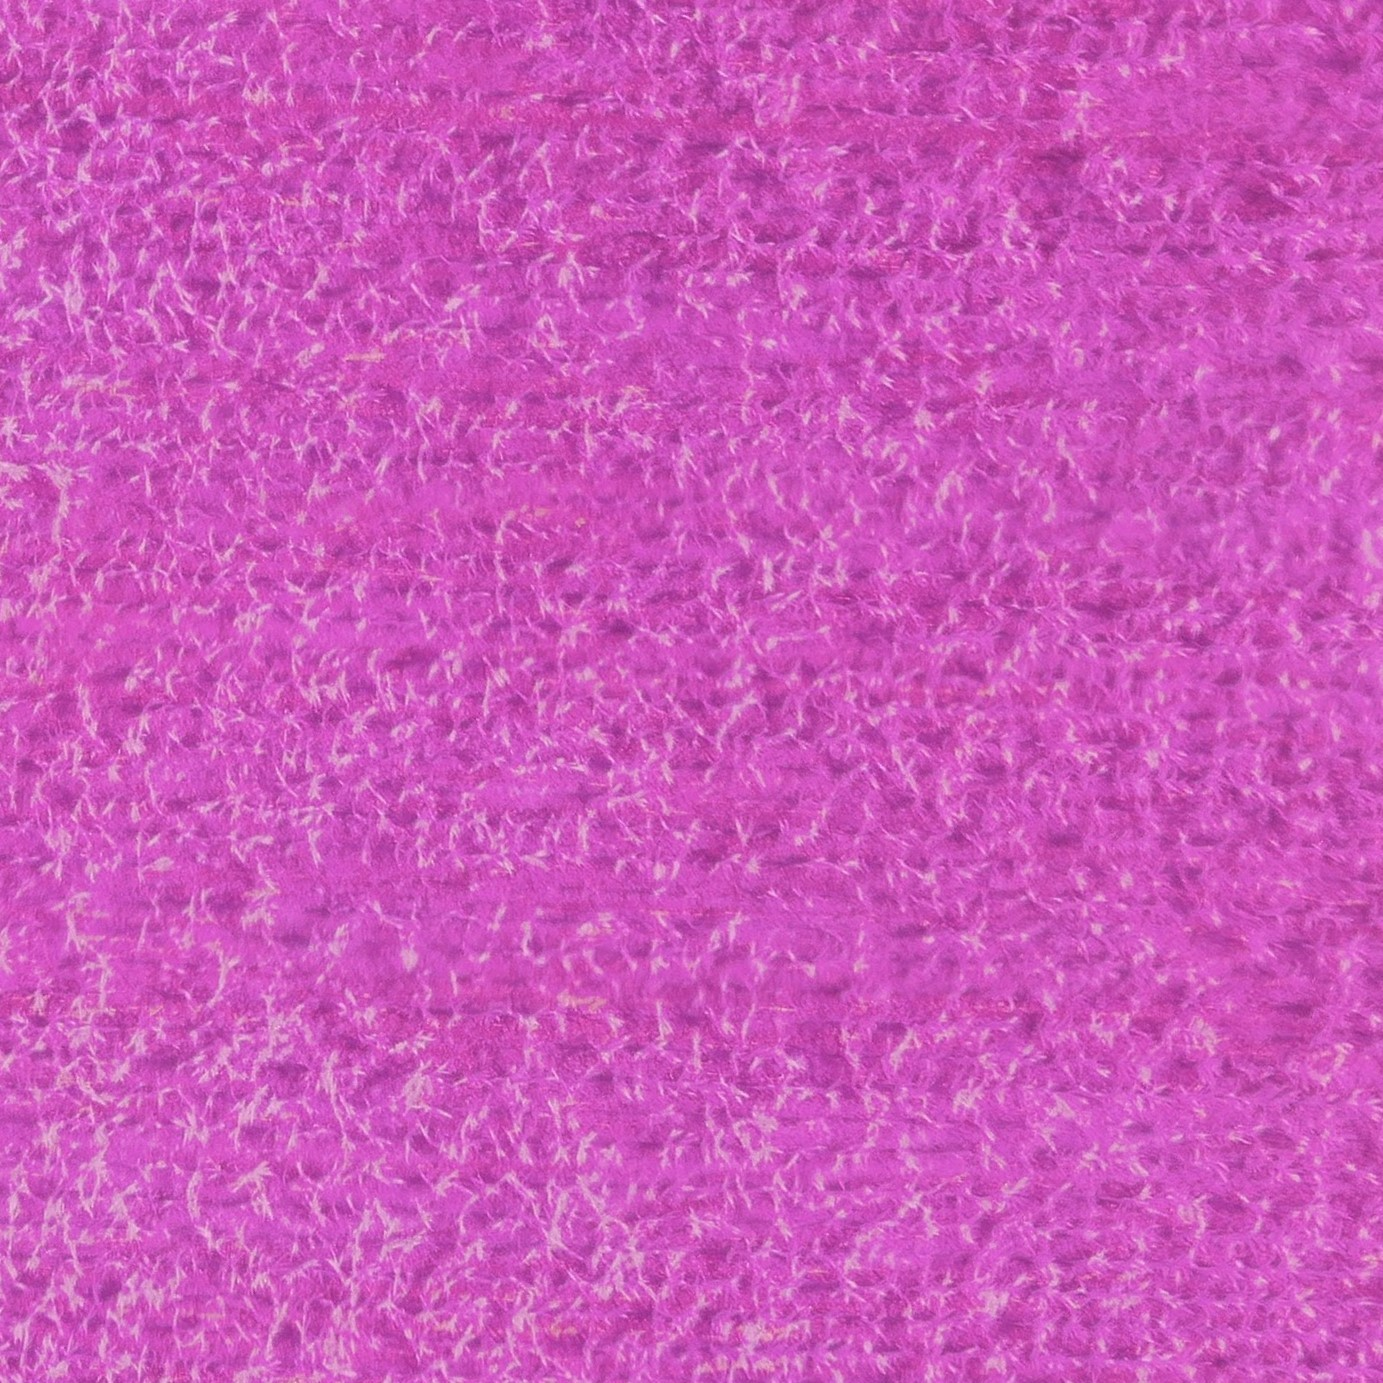plant: (850, 438, 917, 474), (887, 748, 922, 792), (73, 683, 101, 737), (39, 460, 92, 486), (957, 705, 985, 756), (267, 1006, 301, 1046), (490, 401, 518, 450), (937, 469, 966, 514), (727, 138, 769, 168), (432, 325, 475, 355), (612, 385, 651, 417), (724, 433, 751, 479), (1001, 204, 1030, 244), (667, 447, 697, 488), (1183, 1018, 1216, 1054), (1012, 465, 1047, 498), (91, 960, 113, 1013), (315, 1051, 344, 1090), (32, 553, 65, 588), (428, 652, 462, 685), (1177, 1197, 1209, 1231), (502, 1071, 528, 1112), (610, 1245, 643, 1277), (58, 1277, 87, 1312), (114, 377, 142, 414), (816, 564, 852, 591), (774, 1047, 811, 1075), (66, 908, 89, 952), (1090, 1011, 1118, 1046), (60, 1027, 105, 1049), (103, 33, 129, 70), (325, 13, 362, 39), (186, 1171, 206, 1220), (781, 276, 805, 317), (243, 73, 275, 104), (294, 339, 327, 369), (1045, 1096, 1078, 1125), (862, 1088, 895, 1117), (35, 80, 77, 103), (976, 1291, 1011, 1318), (895, 1190, 930, 1218), (1111, 1266, 1150, 1291), (409, 394, 445, 420), (919, 312, 955, 338), (591, 1213, 628, 1239), (546, 1183, 571, 1220), (560, 618, 590, 648), (44, 824, 73, 856), (79, 1158, 111, 1185), (835, 393, 862, 426), (111, 103, 136, 141), (84, 854, 122, 878), (608, 788, 650, 809), (104, 249, 122, 300), (1074, 87, 1093, 134), (911, 401, 941, 431), (579, 1177, 607, 1208), (1120, 1145, 1147, 1177), (673, 819, 705, 846), (98, 77, 141, 98), (736, 382, 756, 426), (434, 1137, 469, 1163), (54, 490, 84, 519), (1128, 938, 1158, 968), (740, 1318, 767, 1349), (137, 308, 163, 339), (781, 237, 818, 260), (721, 263, 754, 289), (524, 30, 559, 54), (805, 170, 830, 204), (65, 1235, 86, 1273), (751, 1104, 779, 1134), (396, 945, 424, 974), (172, 279, 195, 314), (232, 1097, 258, 1127), (965, 369, 995, 395), (926, 637, 961, 660), (187, 186, 219, 212), (100, 327, 125, 358), (982, 1189, 1013, 1215), (293, 434, 325, 458), (214, 1044, 236, 1080), (42, 106, 65, 141), (572, 393, 607, 415), (727, 854, 761, 876), (385, 719, 419, 742), (333, 117, 361, 144), (741, 75, 770, 101), (1059, 439, 1085, 469), (20, 358, 41, 396), (46, 1197, 71, 1227), (401, 1077, 427, 1107), (372, 447, 393, 485), (515, 919, 534, 960), (41, 1121, 65, 1152), (46, 420, 68, 453), (331, 384, 363, 407), (47, 212, 84, 232), (148, 261, 168, 298), (332, 450, 369, 470), (488, 548, 508, 585), (928, 219, 949, 256), (237, 607, 265, 633), (125, 662, 151, 691), (85, 1083, 114, 1108), (472, 194, 502, 219), (1315, 470, 1340, 499), (39, 268, 61, 303), (58, 42, 82, 72), (125, 1027, 149, 1058), (510, 1304, 534, 1335), (472, 812, 496, 842), (559, 255, 583, 285), (578, 809, 597, 847), (414, 441, 433, 479), (883, 328, 906, 360), (608, 765, 643, 785), (218, 949, 234, 992), (249, 805, 282, 827), (762, 470, 784, 503), (684, 293, 709, 320), (993, 298, 1018, 325), (276, 44, 300, 73), (151, 564, 175, 593), (485, 667, 509, 697), (241, 907, 277, 926), (57, 738, 80, 769), (571, 125, 594, 156), (299, 179, 320, 210), (91, 1123, 113, 1155), (413, 835, 434, 866), (57, 1059, 82, 1085), (242, 1165, 268, 1190), (350, 567, 369, 603), (534, 586, 560, 613), (957, 927, 984, 952), (73, 149, 94, 182), (65, 282, 85, 315), (177, 1111, 198, 1144), (391, 187, 412, 220), (978, 1147, 1007, 1170), (781, 1321, 812, 1342), (899, 1136, 921, 1166), (795, 819, 826, 841), (65, 244, 84, 279), (68, 553, 87, 588), (119, 1275, 138, 1310), (552, 225, 586, 244), (594, 1279, 626, 1299), (1142, 745, 1168, 770), (528, 255, 548, 286), (1115, 189, 1146, 209), (118, 733, 144, 757), (320, 1334, 344, 1360), (959, 1085, 985, 1109), (1082, 1142, 1106, 1169), (141, 156, 163, 184), (92, 564, 115, 591), (209, 8, 238, 29), (305, 472, 327, 502), (339, 417, 369, 438), (578, 1132, 597, 1165), (578, 917, 610, 936), (144, 1279, 165, 1310), (460, 1109, 490, 1130), (536, 317, 556, 347), (515, 754, 546, 774), (843, 686, 864, 717), (1152, 49, 1183, 70), (279, 141, 304, 165), (229, 833, 253, 859), (729, 693, 755, 717), (914, 865, 940, 889), (251, 1270, 277, 1293), (331, 1101, 357, 1123), (778, 1084, 812, 1102), (129, 438, 166, 455), (767, 1173, 786, 1204), (38, 147, 60, 175), (496, 849, 517, 878), (655, 756, 675, 785), (605, 594, 635, 614), (382, 1239, 418, 1255), (1039, 1261, 1063, 1285), (73, 106, 104, 125), (174, 41, 193, 71), (29, 988, 48, 1018), (629, 431, 655, 453), (464, 1235, 485, 1261), (242, 244, 263, 271), (70, 995, 90, 1023), (79, 1190, 99, 1218), (659, 1006, 673, 1046), (324, 308, 344, 336), (255, 1046, 271, 1080), (779, 92, 797, 124), (35, 182, 72, 198), (111, 1190, 130, 1220), (225, 793, 244, 822), (306, 1194, 325, 1223), (553, 1140, 572, 1169), (547, 1099, 566, 1128), (528, 141, 547, 170), (360, 282, 382, 306), (431, 1272, 453, 1296), (603, 1009, 626, 1033), (301, 803, 323, 828), (729, 1120, 751, 1145), (327, 748, 352, 770), (279, 743, 300, 769), (141, 859, 174, 875), (39, 1285, 56, 1318), (350, 1228, 366, 1261), (710, 559, 727, 591), (80, 374, 106, 394), (306, 832, 324, 862), (761, 555, 776, 590), (732, 616, 752, 642), (163, 670, 182, 698), (200, 1225, 219, 1253), (377, 1201, 396, 1228), (338, 1132, 357, 1160), (1063, 722, 1082, 750), (640, 1284, 671, 1301), (393, 1041, 424, 1058), (555, 757, 586, 774), (252, 1197, 274, 1221), (523, 1190, 545, 1215), (206, 702, 224, 731), (327, 927, 344, 956), (1002, 643, 1020, 673), (1077, 401, 1094, 431), (1298, 1287, 1316, 1316), (224, 149, 249, 170), (266, 1094, 286, 1120), (542, 1226, 562, 1251), (263, 8, 282, 34), (290, 1261, 317, 1280), (432, 1177, 458, 1196), (414, 567, 441, 586), (96, 1327, 111, 1360), (712, 1128, 727, 1161), (624, 291, 641, 322), (3, 417, 20, 445), (375, 684, 393, 712), (127, 800, 148, 823), (327, 678, 350, 699), (182, 442, 205, 464), (54, 369, 79, 389), (310, 263, 331, 287), (548, 420, 572, 441), (350, 75, 365, 106), (171, 1261, 186, 1293), (515, 1141, 534, 1166), (253, 881, 279, 900), (526, 849, 551, 868), (5, 1193, 22, 1222), (298, 1323, 314, 1353), (132, 833, 158, 851), (11, 1164, 29, 1190), (375, 809, 393, 836), (940, 770, 957, 797), (590, 721, 608, 747), (1285, 1247, 1303, 1274), (103, 759, 123, 781), (443, 295, 466, 315), (583, 426, 598, 456), (214, 222, 230, 249), (309, 773, 325, 800), (686, 198, 703, 225), (282, 578, 306, 597), (843, 1249, 862, 1273), (721, 1018, 740, 1042), (686, 1209, 704, 1235), (52, 534, 81, 550), (351, 1009, 380, 1025), (654, 861, 680, 878), (114, 144, 136, 165), (348, 712, 369, 733), (1158, 193, 1178, 214), (370, 1163, 393, 1182), (301, 684, 320, 707), (689, 1033, 702, 1068), (764, 637, 786, 656), (735, 532, 754, 555), (236, 1231, 253, 1255), (755, 1145, 779, 1163), (457, 1325, 471, 1355), (200, 400, 215, 428), (143, 13, 160, 38), (79, 319, 95, 344), (266, 1330, 279, 1363), (477, 224, 494, 249), (1102, 160, 1127, 176), (377, 1294, 398, 1315), (274, 1301, 287, 1330), (667, 1247, 683, 1274), (448, 824, 464, 851), (299, 610, 322, 628), (268, 209, 284, 236), (817, 529, 835, 552), (519, 1016, 542, 1033), (199, 1123, 215, 1147), (329, 1304, 346, 1329), (200, 35, 219, 56), (124, 1223, 143, 1244), (1004, 1059, 1020, 1084), (117, 1350, 134, 1372), (15, 1322, 33, 1344), (217, 547, 239, 564), (331, 1253, 344, 1279), (68, 396, 84, 420), (91, 1058, 106, 1082), (209, 325, 224, 350), (1120, 869, 1135, 893), (136, 201, 155, 220), (347, 48, 365, 68), (132, 710, 149, 731), (162, 10, 179, 32), (348, 1284, 362, 1310), (393, 1266, 408, 1289), (726, 1355, 748, 1370), (218, 272, 241, 287), (412, 814, 434, 830), (729, 911, 741, 941), (137, 122, 155, 141), (10, 464, 29, 481), (781, 1356, 805, 1370), (9, 35, 23, 60), (219, 380, 243, 394), (114, 1061, 130, 1082), (18, 306, 39, 322), (555, 695, 570, 717), (77, 427, 90, 452), (427, 24, 439, 49), (189, 470, 212, 484), (1071, 346, 1085, 369), (1163, 617, 1185, 631), (417, 1308, 436, 1325), (756, 1355, 775, 1372), (29, 13, 46, 32), (157, 401, 174, 420), (244, 448, 263, 465), (1071, 871, 1088, 890), (133, 570, 148, 590), (258, 160, 275, 177), (96, 230, 113, 248), (357, 1209, 374, 1227), (897, 1035, 914, 1051), (49, 1361, 68, 1377), (174, 336, 189, 355), (284, 86, 298, 106), (155, 1016, 165, 1044), (10, 232, 27, 248), (149, 225, 167, 241), (504, 1171, 522, 1187), (228, 1130, 242, 1149), (48, 594, 61, 614), (710, 928, 721, 954), (1052, 681, 1069, 697), (1249, 1217, 1264, 1234), (181, 931, 195, 949), (244, 293, 258, 310), (1090, 921, 1104, 938), (536, 698, 548, 717), (1075, 754, 1101, 762), (8, 496, 23, 510), (670, 39, 680, 60)
